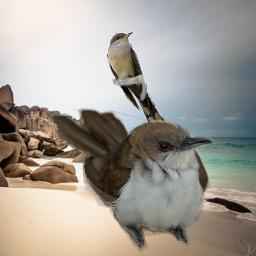Cuckoo: (51, 108, 215, 254), (107, 32, 167, 132)
